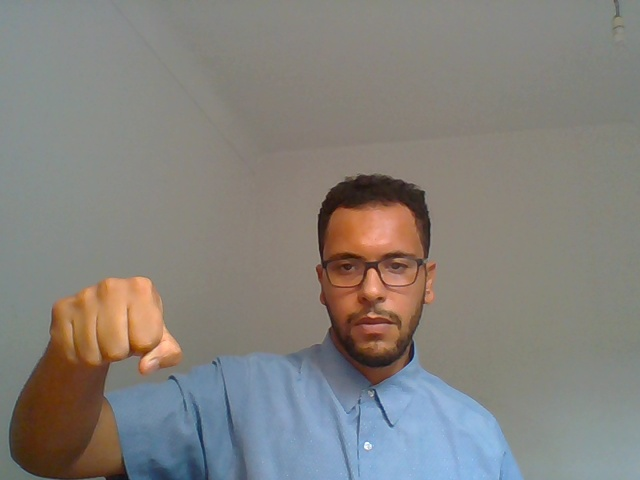yes: (30, 251, 192, 443)
